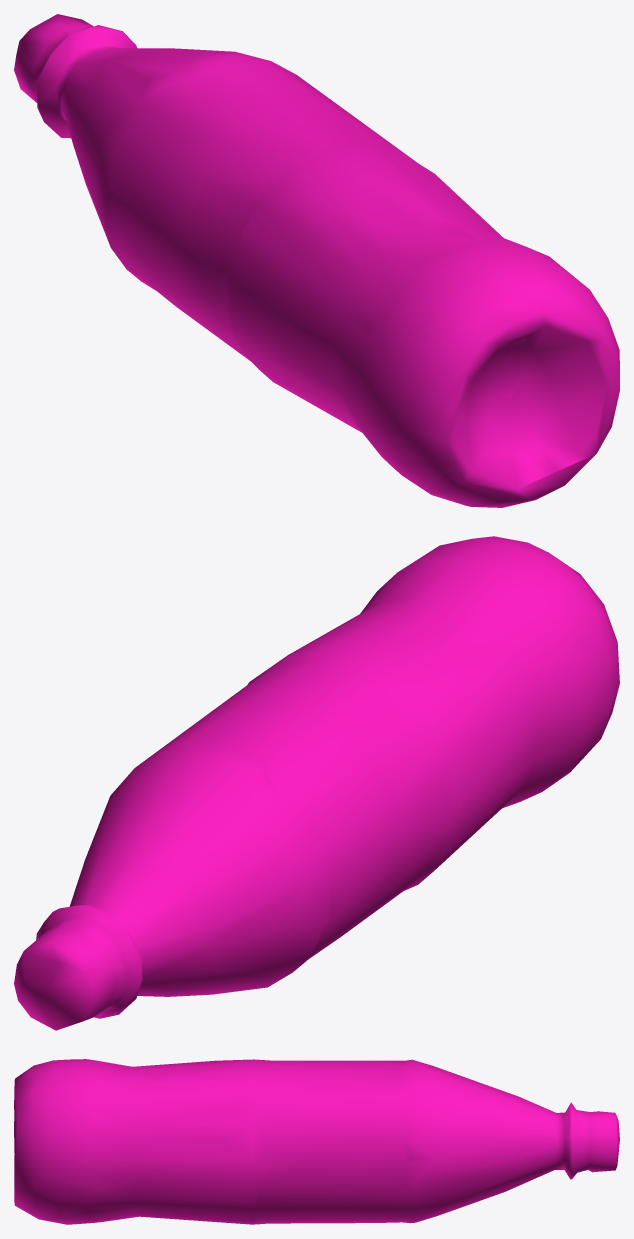
The model's file is bottle3_5.dae.
3 renders of one model, top to bottom at view 1: azimuth 30°, elevation 25°; view 2: azimuth 150°, elevation 25°; view 3: azimuth 270°, elevation 25°, orthographic. The views are drawn at different scales.
Parts seen in each view (by area): view 1: CokePlasticLarge_800_tex_019; view 2: CokePlasticLarge_800_tex_019; view 3: CokePlasticLarge_800_tex_019.
Part boxes in pixels (x1,y1,x2,y2): CokePlasticLarge_800_tex_019: (14,14,619,507); CokePlasticLarge_800_tex_019: (14,536,619,1030); CokePlasticLarge_800_tex_019: (14,1059,619,1224).
Bounding box in the file's own units: 0.045 × 0.1635 × 0.0448.
